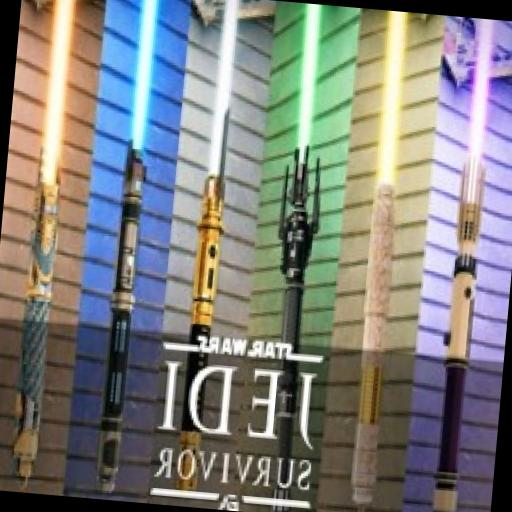lightsaber: (252, 2, 337, 512), (89, 0, 165, 495), (169, 0, 243, 505), (6, 0, 80, 491), (428, 18, 500, 512), (350, 11, 415, 512)
